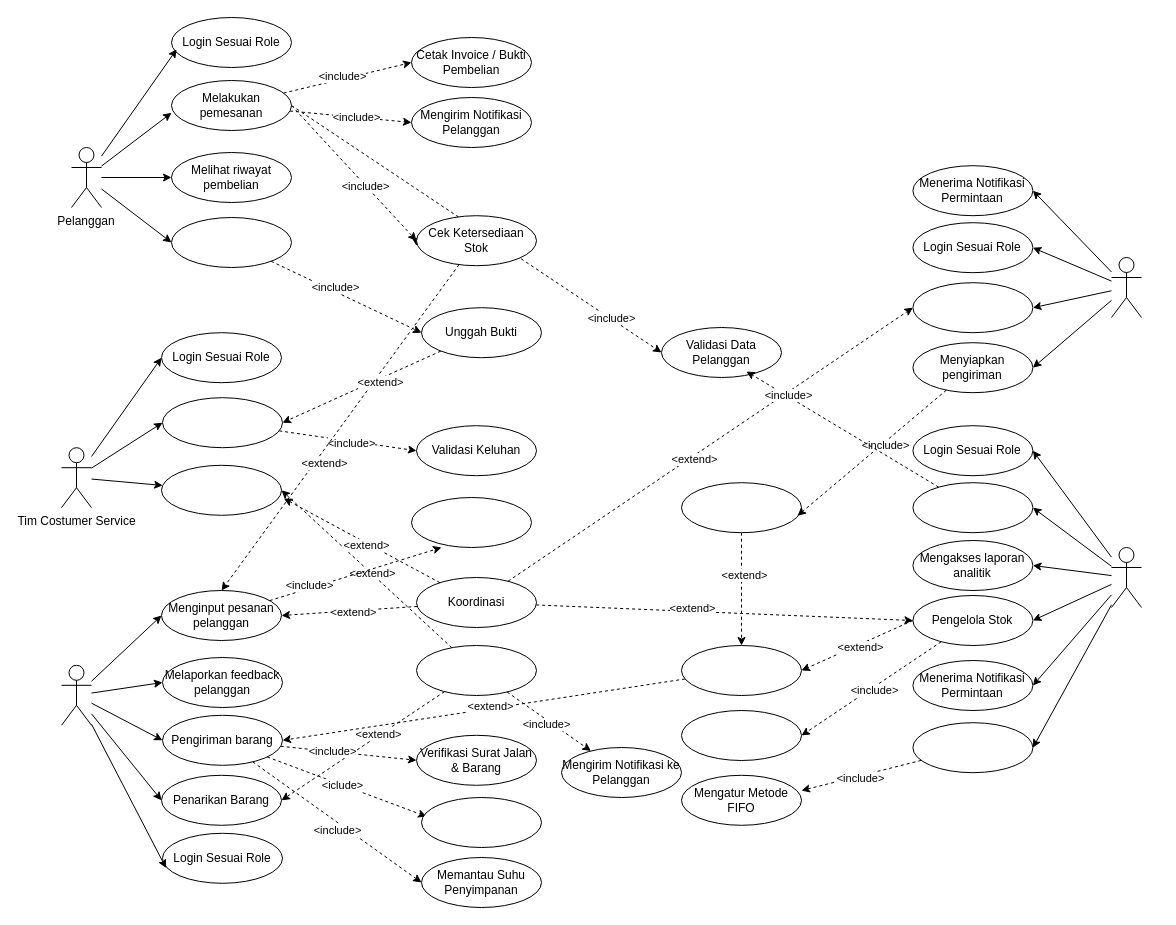
Image size: 1176x925. Some labels were removed from this diagram. The box of each missing label's shape, as (x1, y1, x2, y2) in pixels:
Admin: (1110, 546, 1142, 608)
Bon Pengeluaran/Penarikan: (410, 496, 532, 548)
Cetak Surat Jalan: (680, 644, 802, 696)
koodinasi stok pengiriman: (680, 482, 802, 533)
Melakukan Pengawasan Produk saat Pengiriman: (420, 796, 542, 848)
Melakukan Tindak Lanjut: (416, 644, 536, 696)
Mencatat keluhan pelanggan: (162, 397, 282, 448)
Mengajukan keluhan: (170, 216, 292, 268)
Mengelola data pelanggan: (912, 482, 1033, 533)
Mengelola stok dan penyimpanan: (912, 282, 1033, 333)
Menindaklanjuti dan koordinasi penyelesaian: (160, 464, 282, 515)
Menjadwalkan Pengiriman: (912, 722, 1033, 773)
Pantau Pengiriman Real-Time: (680, 710, 802, 760)
Sales/Ekspedisi: (60, 664, 92, 725)
Tim Gudang: (1110, 256, 1142, 318)
